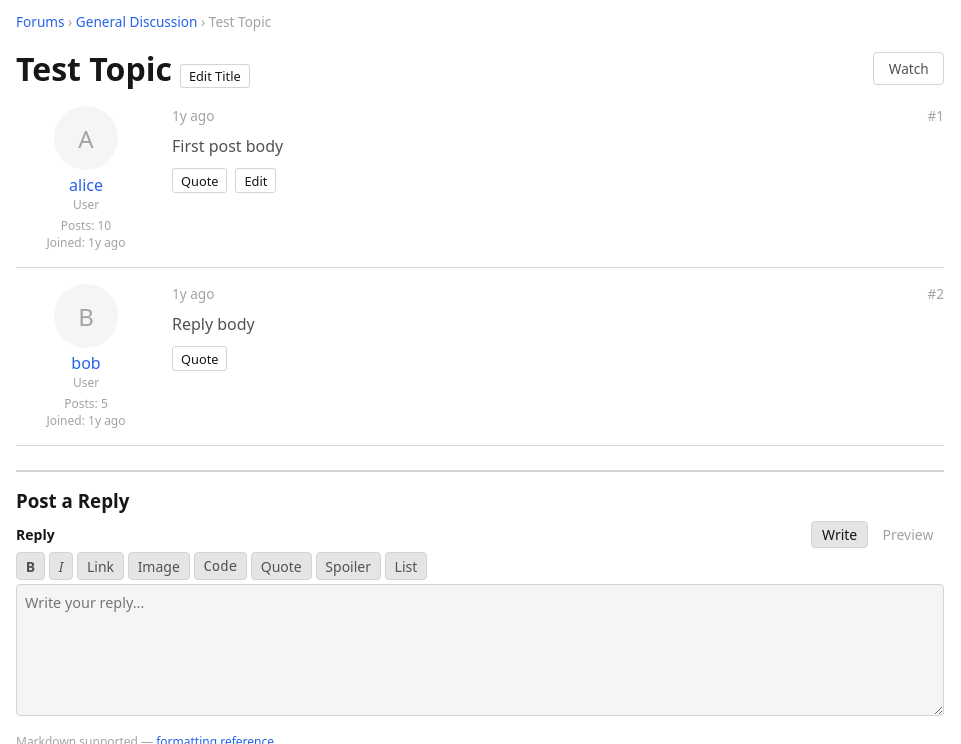
Test: ForumTopicViewPage › save edit conflict (409) shows a clear message and keeps the editor open
Expected: the heading "Test Topic Edit Title" is shown, [16, 47, 250, 90]
Click the button "Edit": (256, 181) [236, 168, 276, 193]
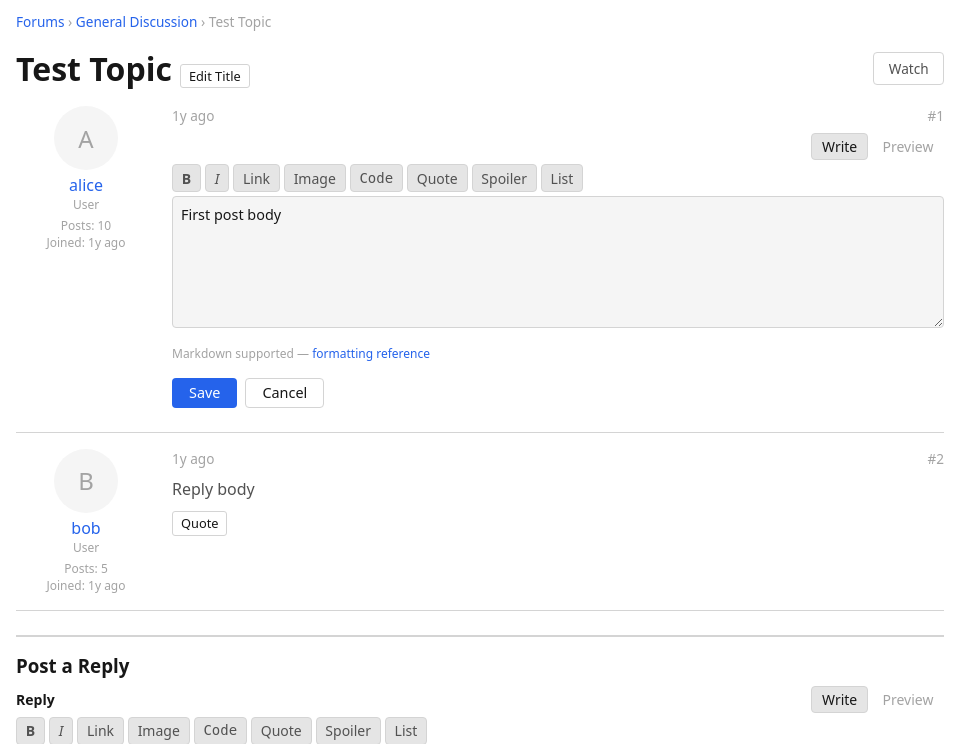
Replace the text in the text box with placeholder "Edit your post..." with "A stale edit": (558, 262) [172, 196, 944, 328]
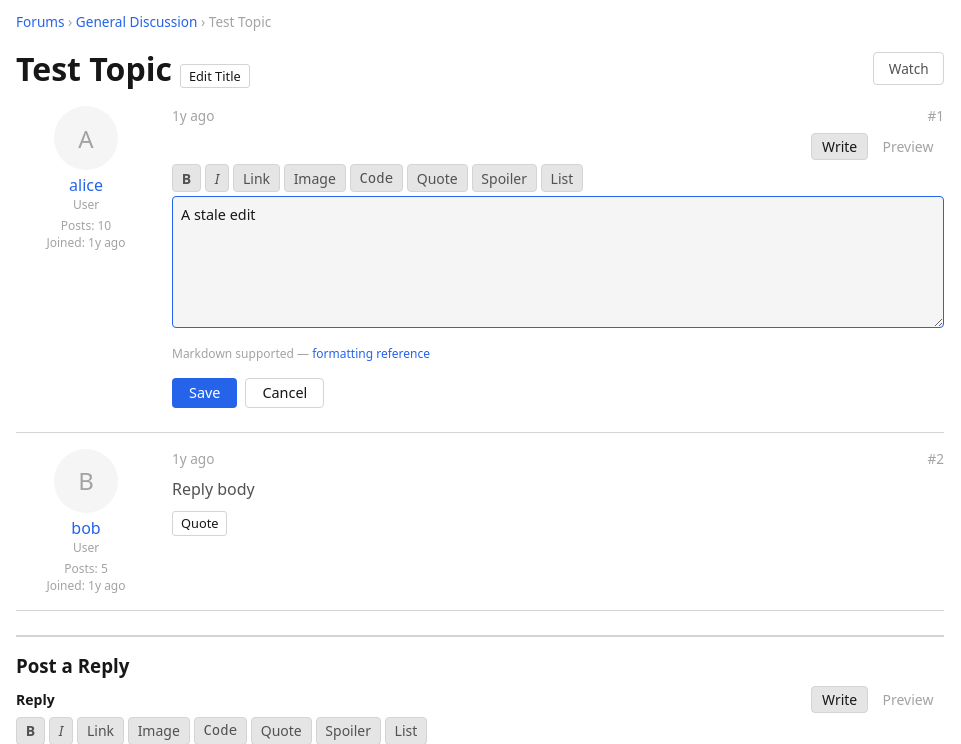
Click the button "Save": (205, 393) [172, 378, 237, 408]
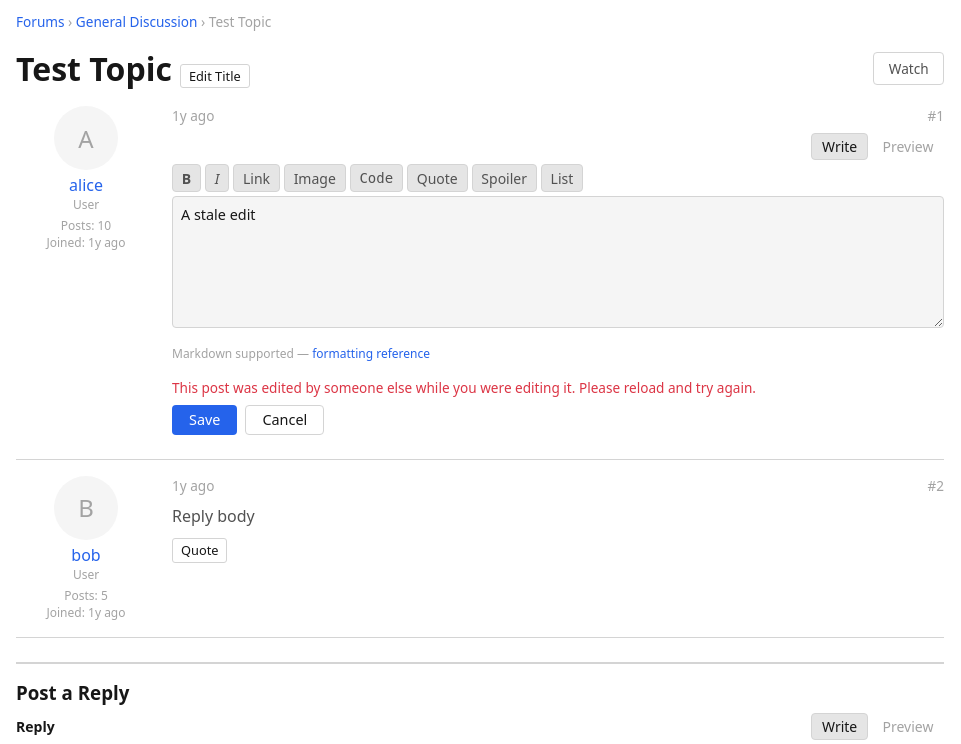
Expected: the button "Save" is shown, [172, 405, 237, 434]
Expected: the text "This post was edited by someone else while you were editing it. Please reload and try again." is shown, [172, 378, 756, 397]
